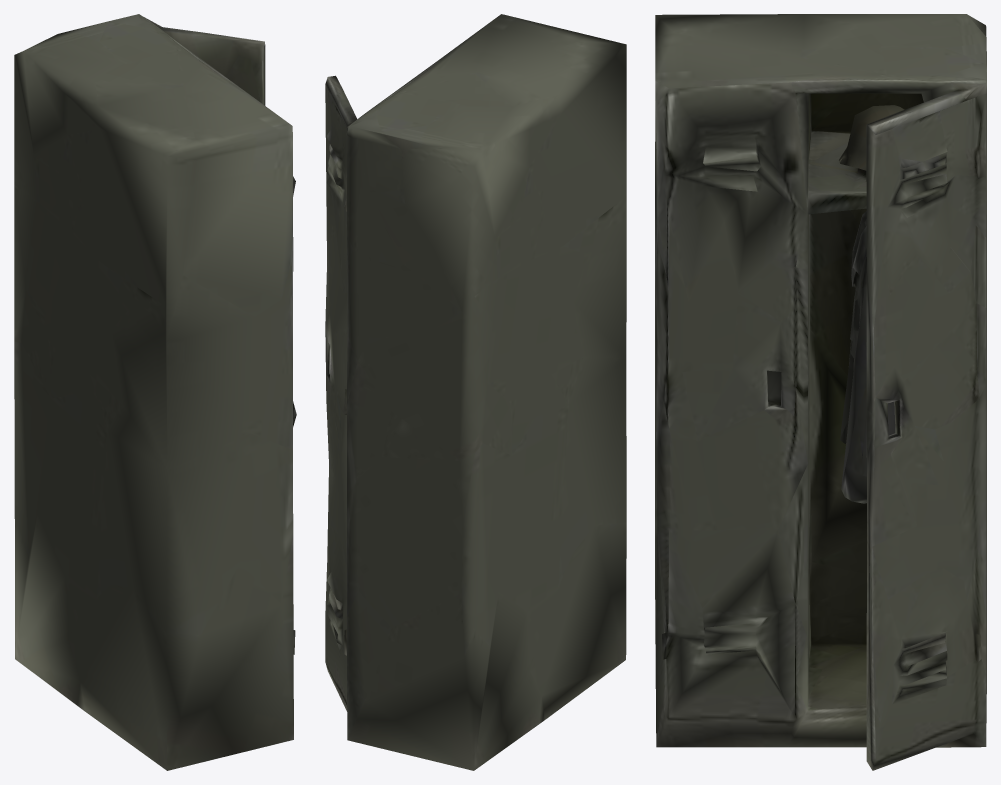
Rendered from prop_locker.glb.
3 renders of one model, left to right at view 1: azimuth 30°, elevation 25°; view 2: azimuth 150°, elevation 25°; view 3: azimuth 270°, elevation 25°, orthographic. The views are drawn at different scales.
Visible parts, largest first — view 1: tripo_node_85e2cdba-ddab-4bbd-acbc-8c93ea9017bf; view 2: tripo_node_85e2cdba-ddab-4bbd-acbc-8c93ea9017bf; view 3: tripo_node_85e2cdba-ddab-4bbd-acbc-8c93ea9017bf.
Boxes of the visible parts, left/top/right/bottom form: tripo_node_85e2cdba-ddab-4bbd-acbc-8c93ea9017bf: left=14, top=14, right=296, bottom=770; tripo_node_85e2cdba-ddab-4bbd-acbc-8c93ea9017bf: left=325, top=14, right=626, bottom=770; tripo_node_85e2cdba-ddab-4bbd-acbc-8c93ea9017bf: left=655, top=14, right=986, bottom=770.
Bounding box in the file's own units: 0.3411 × 0.9999 × 0.4506.
1 material, 1 textured.
